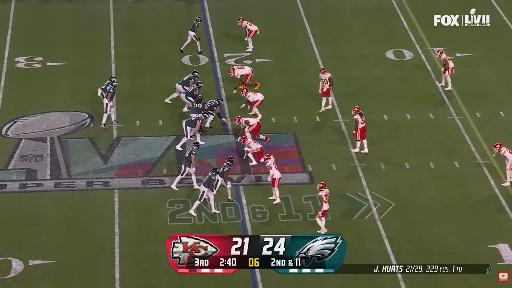Helmet: (241, 87, 249, 96), (494, 143, 502, 152), (436, 49, 444, 57), (318, 182, 326, 190), (263, 153, 271, 161), (352, 106, 360, 114), (111, 81, 119, 89), (235, 116, 242, 125), (226, 156, 233, 165), (211, 167, 218, 175), (195, 95, 203, 102), (202, 111, 209, 119), (195, 82, 203, 89), (229, 67, 235, 76), (320, 67, 327, 74), (216, 98, 223, 105), (192, 71, 199, 78), (192, 142, 199, 149), (241, 136, 247, 143), (196, 16, 202, 22), (110, 76, 116, 82), (238, 18, 243, 25)
Jersey: (266, 157, 281, 178), (101, 85, 116, 101), (183, 147, 195, 167), (183, 86, 199, 101), (178, 74, 196, 87), (201, 173, 215, 188), (319, 189, 329, 210), (185, 117, 203, 128), (234, 67, 252, 78), (440, 54, 454, 67), (191, 102, 206, 114), (207, 100, 219, 115), (246, 92, 263, 102), (354, 112, 365, 127), (246, 140, 261, 151), (320, 73, 331, 88), (240, 118, 258, 127), (500, 147, 511, 161), (219, 164, 230, 178), (242, 21, 257, 30), (100, 81, 111, 93), (190, 21, 199, 32)
Player: (189, 167, 219, 215), (171, 142, 199, 190), (176, 111, 207, 150), (165, 71, 199, 103), (261, 154, 281, 203), (235, 116, 270, 143), (215, 156, 235, 201), (180, 16, 203, 54), (100, 81, 118, 128), (229, 67, 259, 93), (436, 49, 454, 90), (241, 87, 264, 119), (352, 107, 368, 153), (494, 143, 511, 186), (238, 18, 259, 51), (180, 81, 203, 111), (240, 136, 263, 165), (316, 183, 329, 234), (319, 68, 333, 111), (206, 98, 226, 127), (98, 76, 117, 98), (190, 95, 207, 118)
